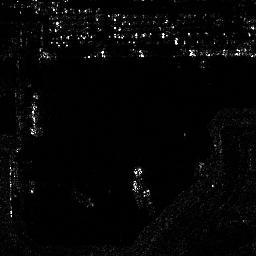ship: (28, 101, 45, 136)
